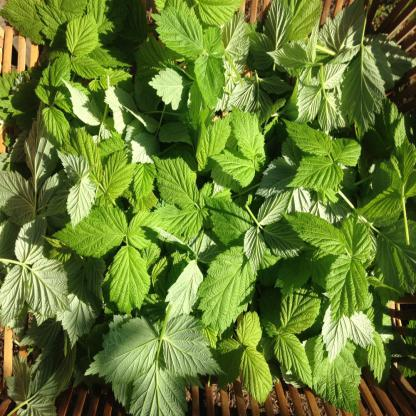raspberry leaf: (159, 311, 236, 382), (196, 245, 256, 334), (87, 311, 161, 383), (74, 194, 124, 259), (102, 246, 149, 312), (151, 151, 200, 209), (281, 211, 346, 254), (25, 258, 71, 317), (327, 255, 368, 321), (202, 193, 256, 242), (280, 113, 332, 160), (285, 154, 345, 192), (211, 148, 260, 190), (229, 106, 267, 159), (12, 214, 50, 260), (200, 110, 229, 168), (103, 150, 134, 202), (341, 215, 371, 259), (131, 159, 156, 200), (333, 131, 362, 164)
